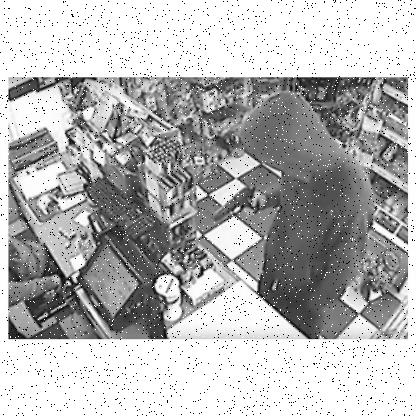gun: (210, 184, 258, 221)
